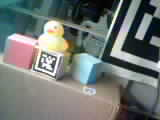duck: (32, 11, 79, 47)
